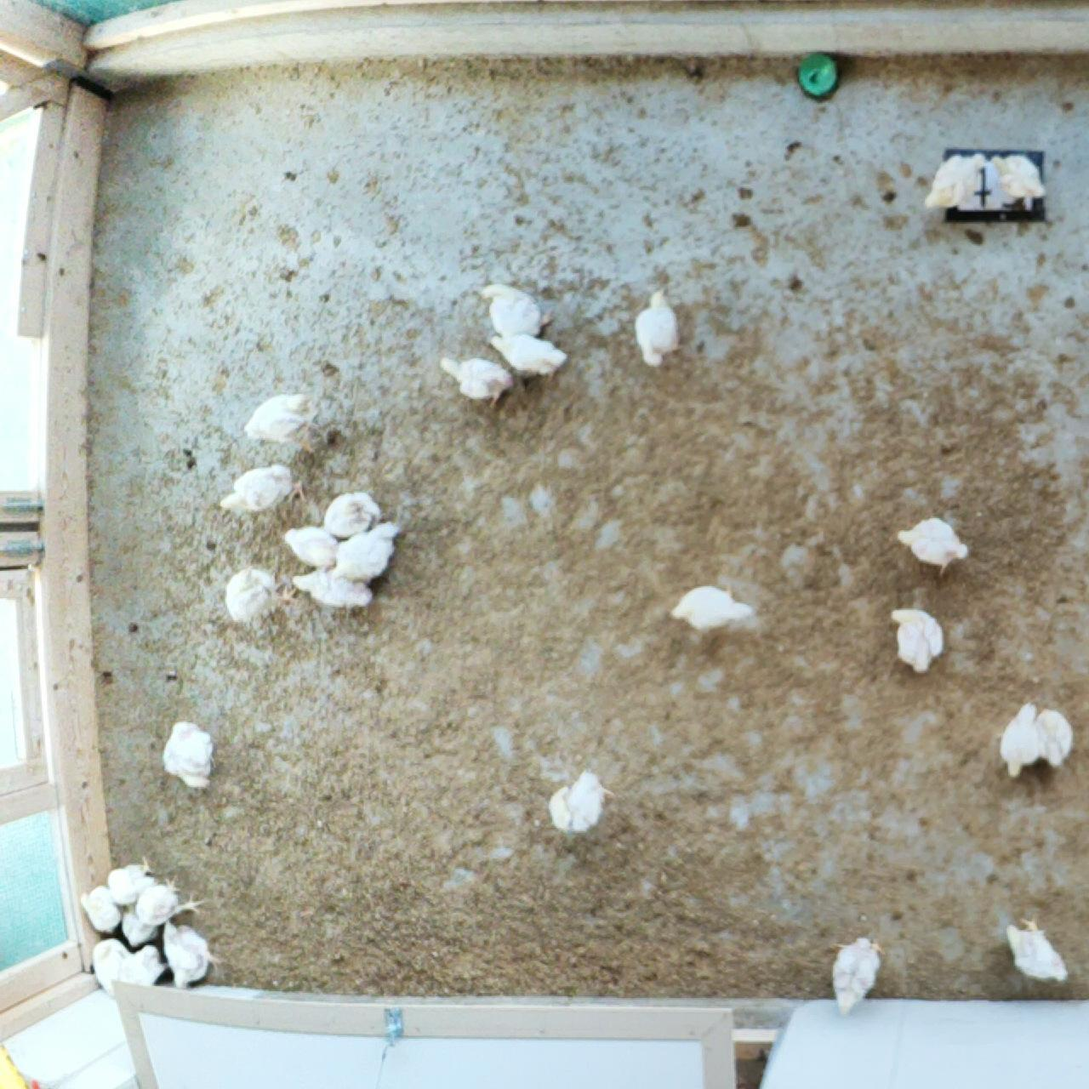chicken: (992, 909, 1075, 988), (239, 388, 328, 458), (822, 927, 892, 1012), (892, 509, 972, 583), (663, 576, 756, 639), (432, 348, 518, 412), (214, 461, 306, 520), (157, 713, 223, 794), (158, 916, 228, 992), (881, 601, 948, 680), (485, 328, 574, 386), (476, 277, 559, 339), (544, 765, 615, 836), (629, 282, 685, 372), (325, 520, 408, 580), (131, 871, 211, 930), (224, 564, 299, 626), (923, 147, 987, 211), (288, 566, 378, 611), (322, 487, 388, 541), (998, 699, 1042, 780), (103, 851, 160, 909), (989, 152, 1050, 205), (87, 933, 135, 996), (75, 878, 125, 934), (1033, 705, 1076, 770), (282, 522, 340, 570), (119, 939, 172, 989), (117, 901, 158, 949)
